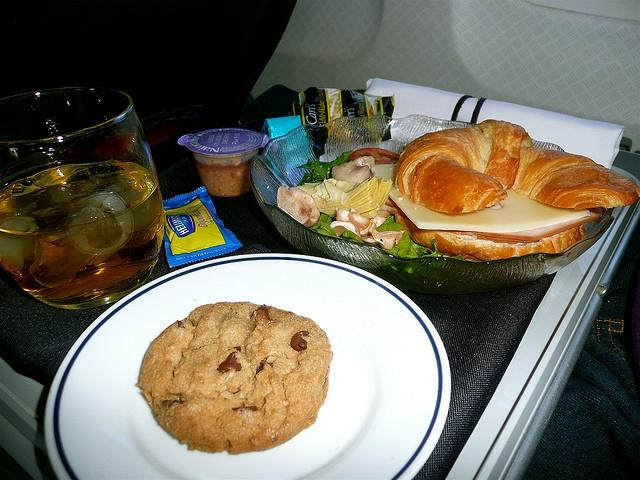lettuce: (297, 150, 353, 180), (376, 215, 412, 256), (310, 222, 342, 238), (404, 244, 418, 260), (298, 172, 314, 186)
